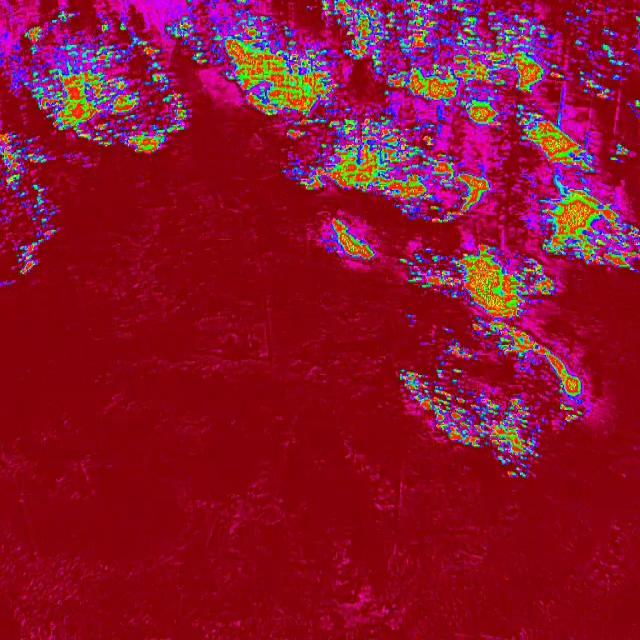fire: (195, 0, 640, 119), (282, 118, 640, 202), (0, 0, 194, 155), (392, 319, 592, 461), (393, 202, 640, 276), (0, 136, 58, 302), (408, 274, 564, 320), (312, 216, 384, 262)
